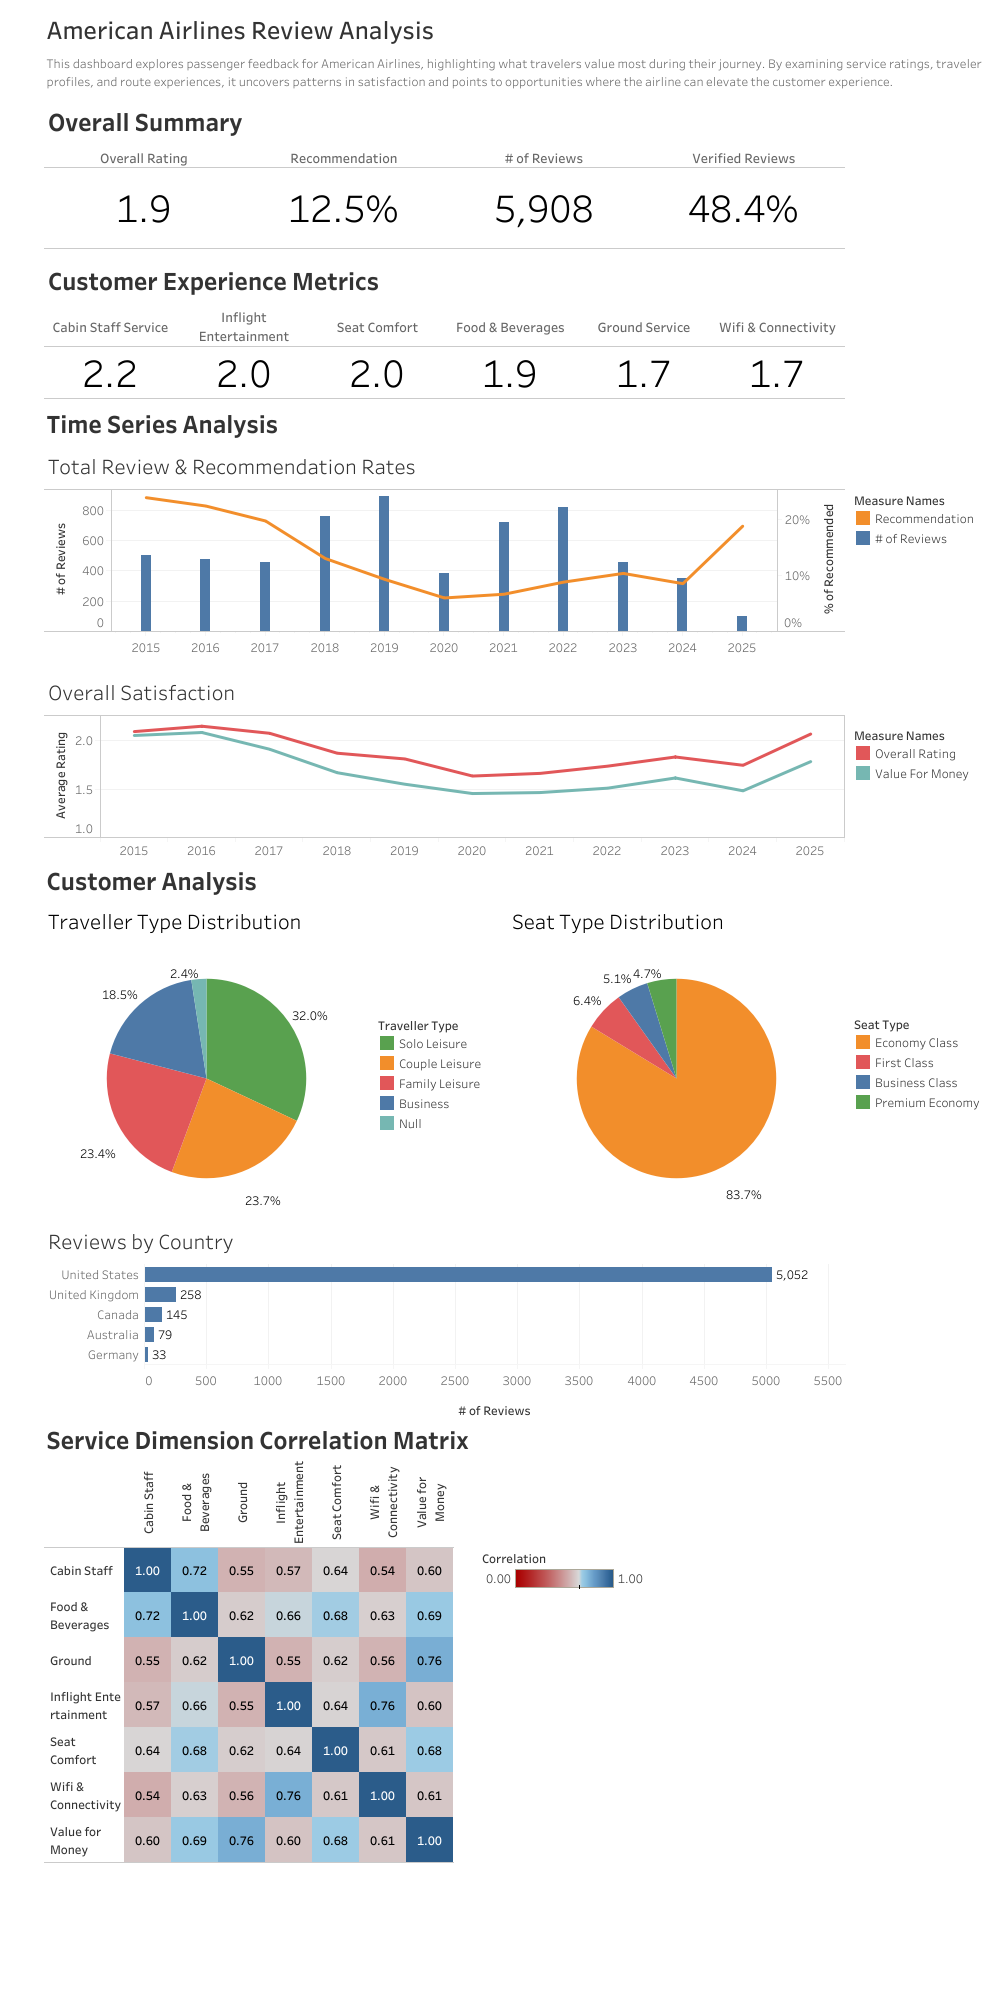

The dashboard page shown, as its layout file describes it:
{"tool":"tableau","page":{"name":"Dashboard 1","canvas":[1000,1000],"units":"permille","ordinal":0},"visuals":[{"type":"blank","box":[6.2,4,32.1,992]},{"type":"title","box":[38.2,4,955.6,20.5]},{"type":"text","box":[38.2,24.5,955.6,21]},{"type":"worksheet","title":"DataSum","mark":"Automatic","box":[38.2,45.5,812,79]},{"type":"blank","box":[850.3,45.5,143.6,196]},{"type":"worksheet","title":"SatisfactionMetrics","mark":"Automatic","box":[38.2,124.5,812,74.5]},{"type":"text","box":[38.2,199,812,19.5]},{"type":"worksheet","title":"#Review%Recommended","mark":"Bar","rows":["review_id","Calculation_537335784213790720"],"cols":["submitted_date"],"box":[38.2,218.5,812,112]},{"type":"legend","title":"#Review%Recommended","param":"[federated.0s96i351wny2ng14ti2cp0nn4qun].[:Measure Names]","box":[850.3,241.5,143.6,111.5]},{"type":"worksheet","title":"OverallSatisfaction","mark":"Automatic","rows":["average_rating","value_for_money"],"cols":["submitted_date"],"box":[38.2,332.3,812,97.7]},{"type":"legend","title":"OverallSatisfaction","param":"[federated.0s96i351wny2ng14ti2cp0nn4qun].[:Measure Names]","box":[850.3,359,143.6,33]},{"type":"text","box":[38.2,430,812,17.8]},{"type":"worksheet","title":"TravellerType","mark":"Pie","box":[38.2,447.8,334.2,160]},{"type":"blank","box":[372.5,447.8,131.4,56.2]},{"type":"worksheet","title":"SeatType","mark":"Pie","box":[503.9,447.8,346.4,160]},{"type":"blank","box":[850.3,447.8,143.6,55.7]},{"type":"legend","title":"SeatType","param":"[federated.0s96i351wny2ng14ti2cp0nn4qun].[none:seat_type:nk]","box":[850.3,503.5,143.6,104.3]},{"type":"legend","title":"TravellerType","param":"[federated.0s96i351wny2ng14ti2cp0nn4qun].[none:type_of_traveller:nk]","box":[372.5,504,131.4,103.8]},{"type":"worksheet","title":"CountryReview","mark":"Automatic","rows":["nationality"],"cols":["review_id"],"box":[38.2,607.8,812,103.2]},{"type":"blank","box":[850.3,607.8,143.6,103.2]},{"type":"text","box":[38.2,711,812,28.5]},{"type":"blank","box":[850.3,711,143.6,28.5]},{"type":"text","box":[38.2,739.5,399.4,20]},{"type":"text","box":[437.7,739.5,556.2,20]},{"type":"worksheet","title":"eco heat","mark":"Automatic","rows":["metric_y"],"cols":["metric_x"],"box":[38.2,759.5,399.4,236.5]},{"type":"worksheet","title":"eco heat (2)","mark":"Automatic","rows":["metric_y"],"cols":["metric_x"],"box":[437.7,759.5,412.6,236.5]},{"type":"legend","title":"eco heat (2)","param":"[federated.06ufy520tb83cb19agsgc08zw278].[sum:correlation:qk]","box":[850.3,759.5,143.6,118.2]},{"type":"blank","box":[850.3,877.8,143.6,118.2]}]}

Visuals, with their boxes on the dashboard's canvas, which has no fixed pixel size, in thousandths of its width and height (x1, y1, x2, y2). These are canvas units, not pixel positions in the 999x1999 screenshot, which may show the page scaled, cropped or inside an application window:
blank: [6, 4, 38, 996]
title: [38, 4, 994, 24]
text: [38, 24, 994, 46]
"DataSum" worksheet: [38, 46, 850, 124]
blank: [850, 46, 994, 242]
"SatisfactionMetrics" worksheet: [38, 124, 850, 199]
text: [38, 199, 850, 218]
"#Review%Recommended" worksheet (Bar marks): [38, 218, 850, 330]
"#Review%Recommended" legend: [850, 242, 994, 353]
"OverallSatisfaction" worksheet: [38, 332, 850, 430]
"OverallSatisfaction" legend: [850, 359, 994, 392]
text: [38, 430, 850, 448]
"TravellerType" worksheet (Pie marks): [38, 448, 372, 608]
blank: [372, 448, 504, 504]
"SeatType" worksheet (Pie marks): [504, 448, 850, 608]
blank: [850, 448, 994, 504]
"SeatType" legend: [850, 504, 994, 608]
"TravellerType" legend: [372, 504, 504, 608]
"CountryReview" worksheet: [38, 608, 850, 711]
blank: [850, 608, 994, 711]
text: [38, 711, 850, 740]
blank: [850, 711, 994, 740]
text: [38, 740, 438, 760]
text: [438, 740, 994, 760]
"eco heat" worksheet: [38, 760, 438, 996]
"eco heat (2)" worksheet: [438, 760, 850, 996]
"eco heat (2)" legend: [850, 760, 994, 878]
blank: [850, 878, 994, 996]
